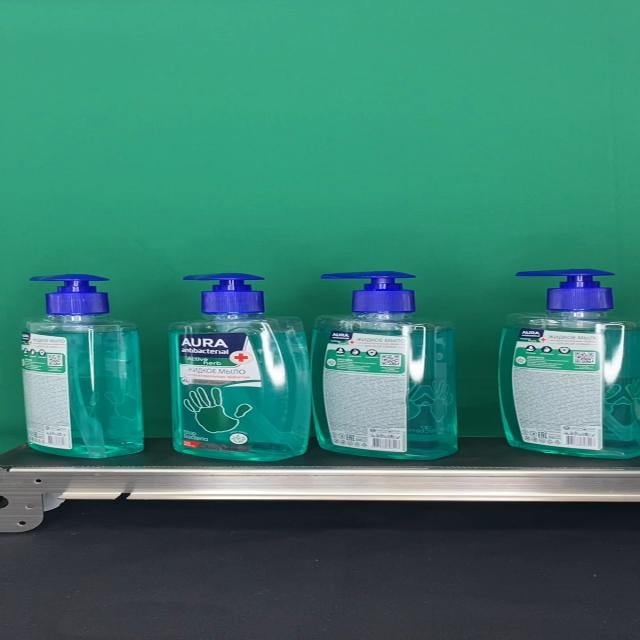Bottle: (312, 271, 459, 460), (168, 272, 310, 461), (499, 270, 640, 458), (20, 273, 144, 459)
Cap: (514, 270, 614, 313), (319, 272, 414, 314), (181, 272, 263, 314), (29, 273, 110, 314)
